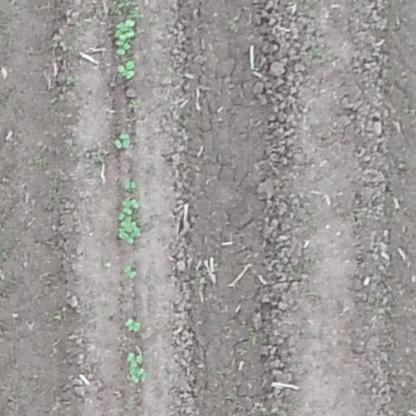vc: (116, 196, 141, 243), (124, 346, 151, 386), (113, 15, 138, 54), (118, 57, 134, 82), (112, 129, 132, 147), (125, 314, 142, 333), (124, 262, 135, 280), (122, 177, 137, 189)
